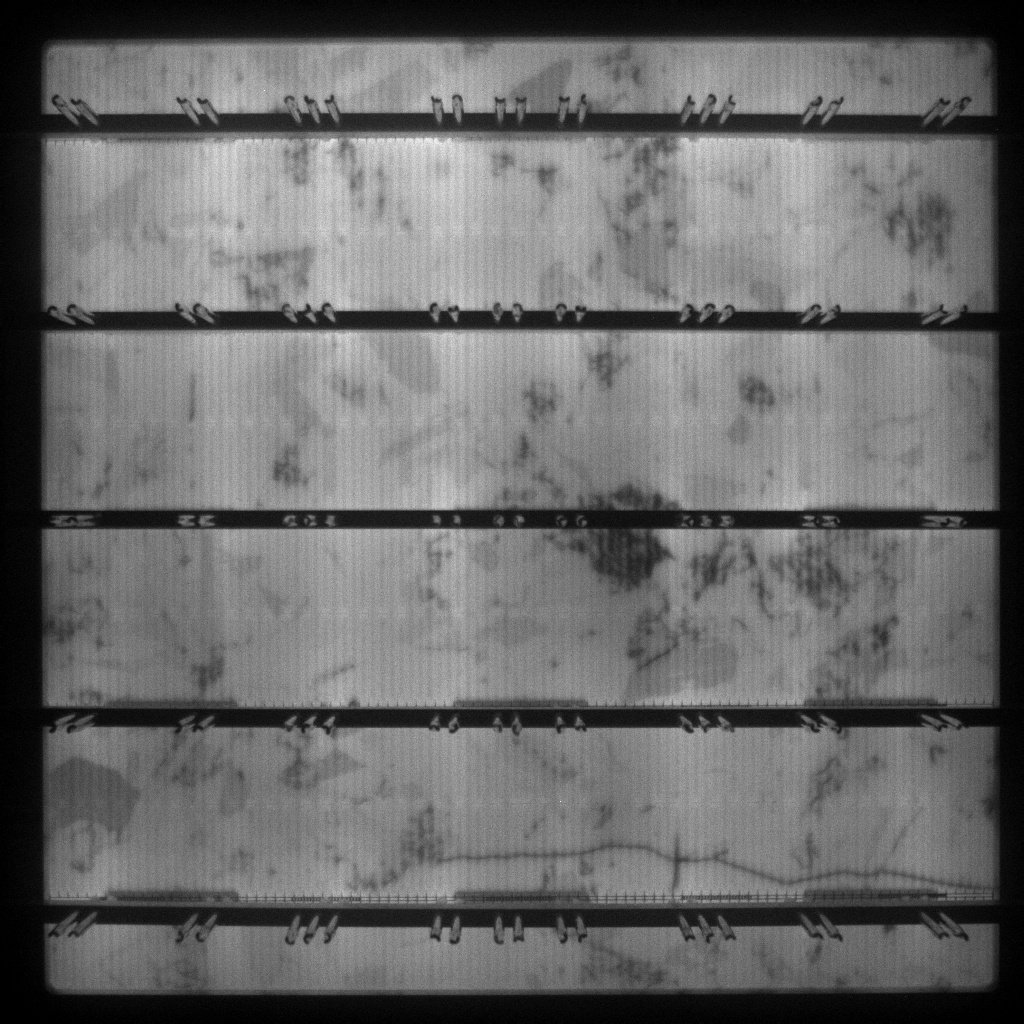crack: (432, 841, 996, 884)
